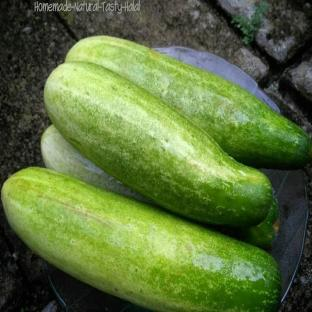Cucumber: (2, 168, 280, 311), (45, 62, 272, 226), (67, 37, 311, 168), (41, 125, 148, 202), (222, 199, 279, 249)
